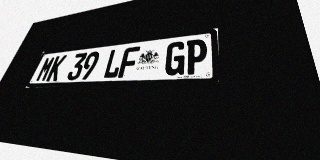3: (66, 52, 88, 80)
9: (78, 51, 101, 80)
F: (118, 46, 140, 78)
G: (163, 41, 186, 76)
K: (45, 55, 67, 81)
L: (102, 48, 125, 79)
M: (35, 56, 56, 82)
P: (184, 38, 207, 75)
